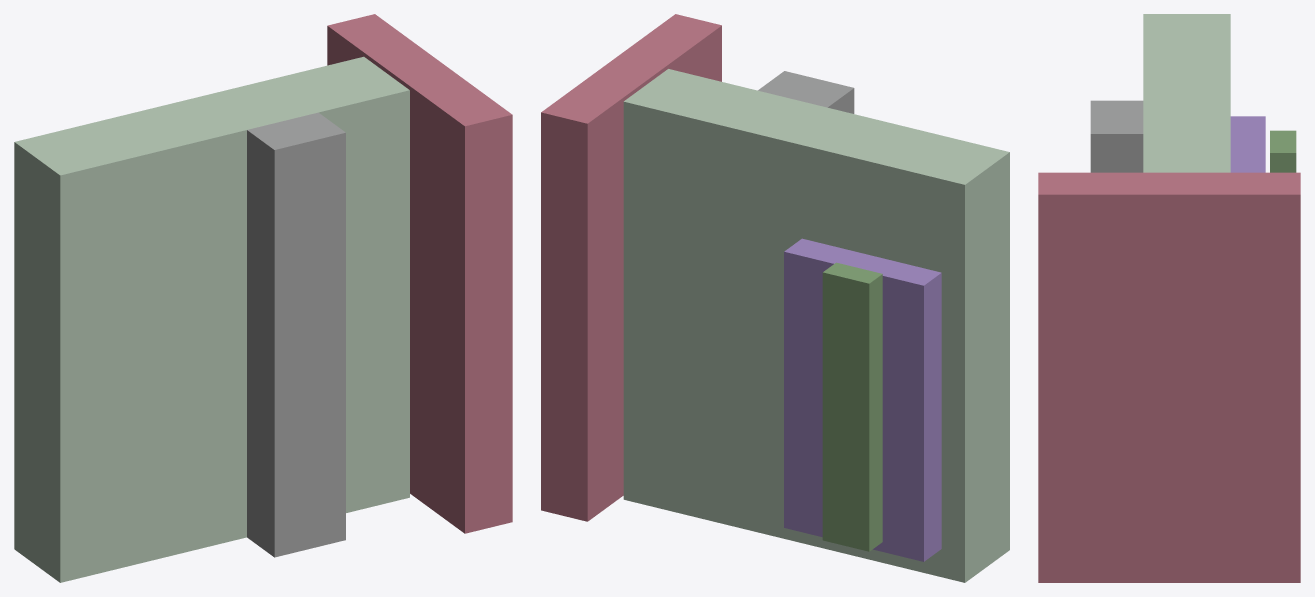
Rendered from 239516_pred.glb.
3 renders of one model, left to right at view 1: azimuth 30°, elevation 25°; view 2: azimuth 150°, elevation 25°; view 3: azimuth 270°, elevation 25°, orthographic. The views are drawn at different scales.
Visible parts, largest first — view 1: world; view 2: world; view 3: world.
Boxes of the visible parts, x1,y1,x2,y2 form: world: (14,14,512,582); world: (541,14,1009,582); world: (1038,14,1300,582).
Size of the model in its own units: 5 by 4.95 by 3.
